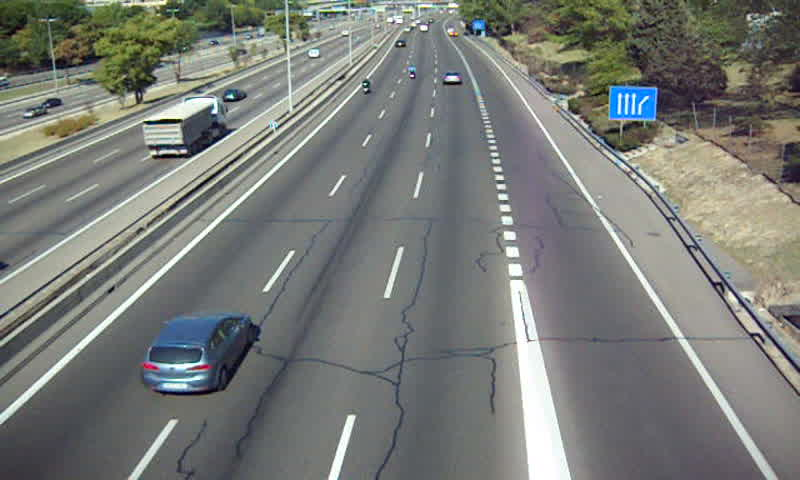car: (139, 312, 251, 392), (440, 71, 462, 84), (394, 41, 406, 50)
motorcycle: (406, 67, 417, 82), (361, 80, 372, 95)
